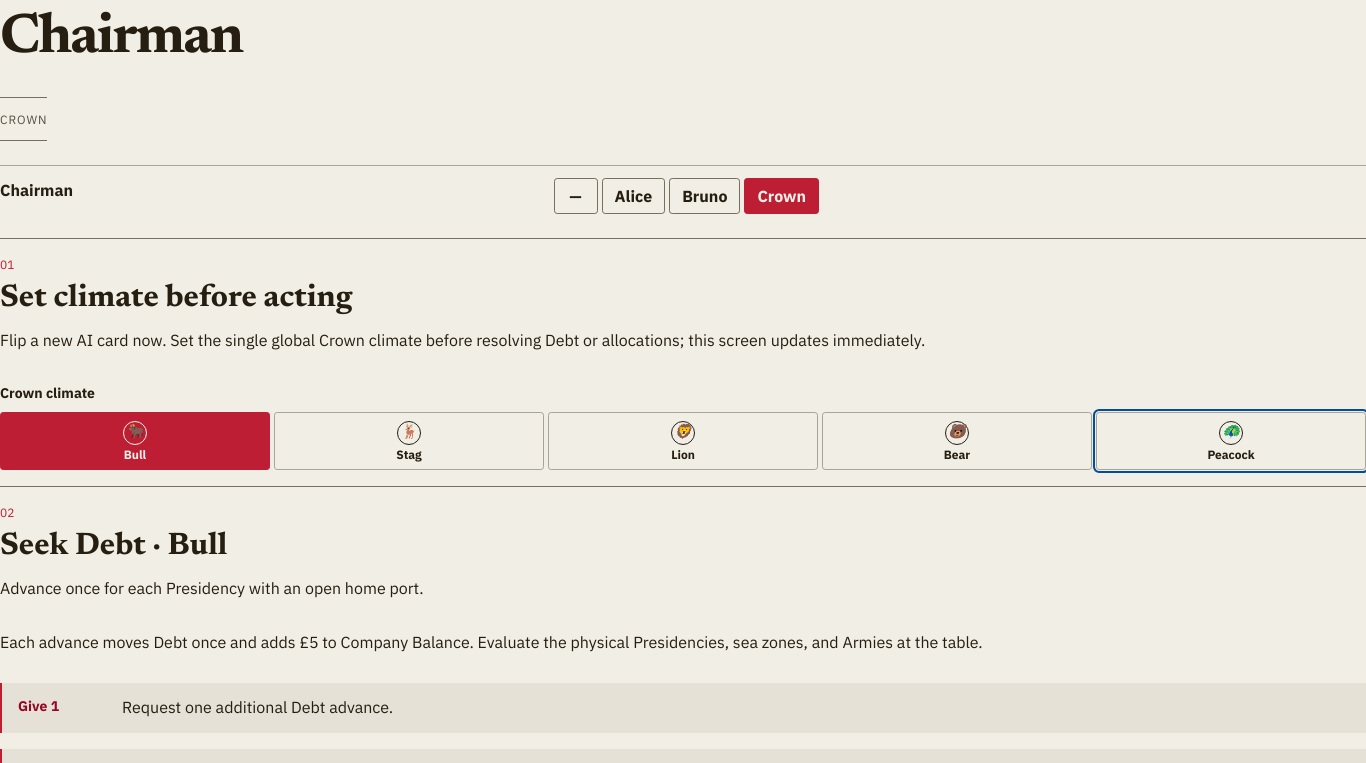
Test: Session 3 representative slices › switches the Chairman branch and active climate guidance immediately from the keyboard
Expected: the text "Advance once for each Presidency with an open home port." is shown, [0, 578, 424, 598]
Press Enter
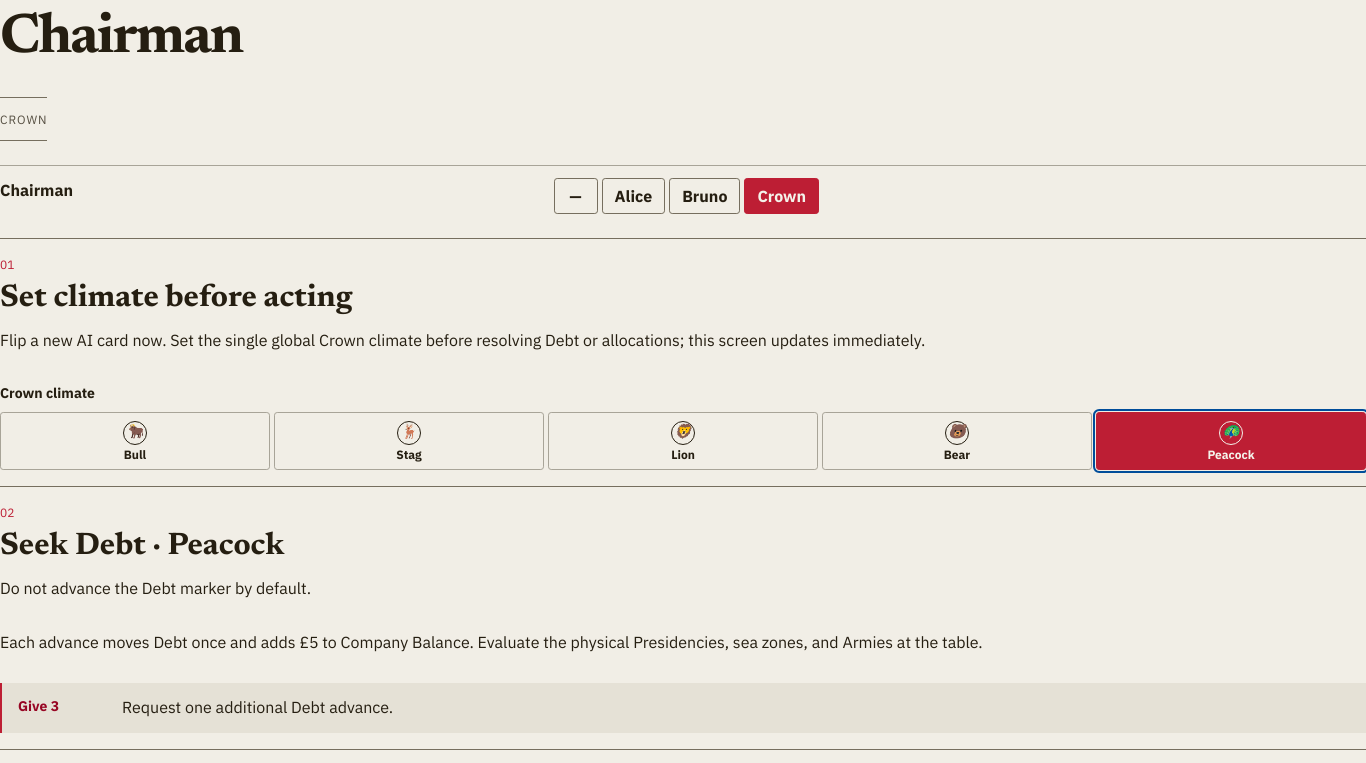
Expected: the text "Do not advance the Debt marker by default." is shown, [0, 578, 311, 598]
Click the button "Alice".
click(633, 196)  # box [602, 178, 665, 214]
(page scrolled)
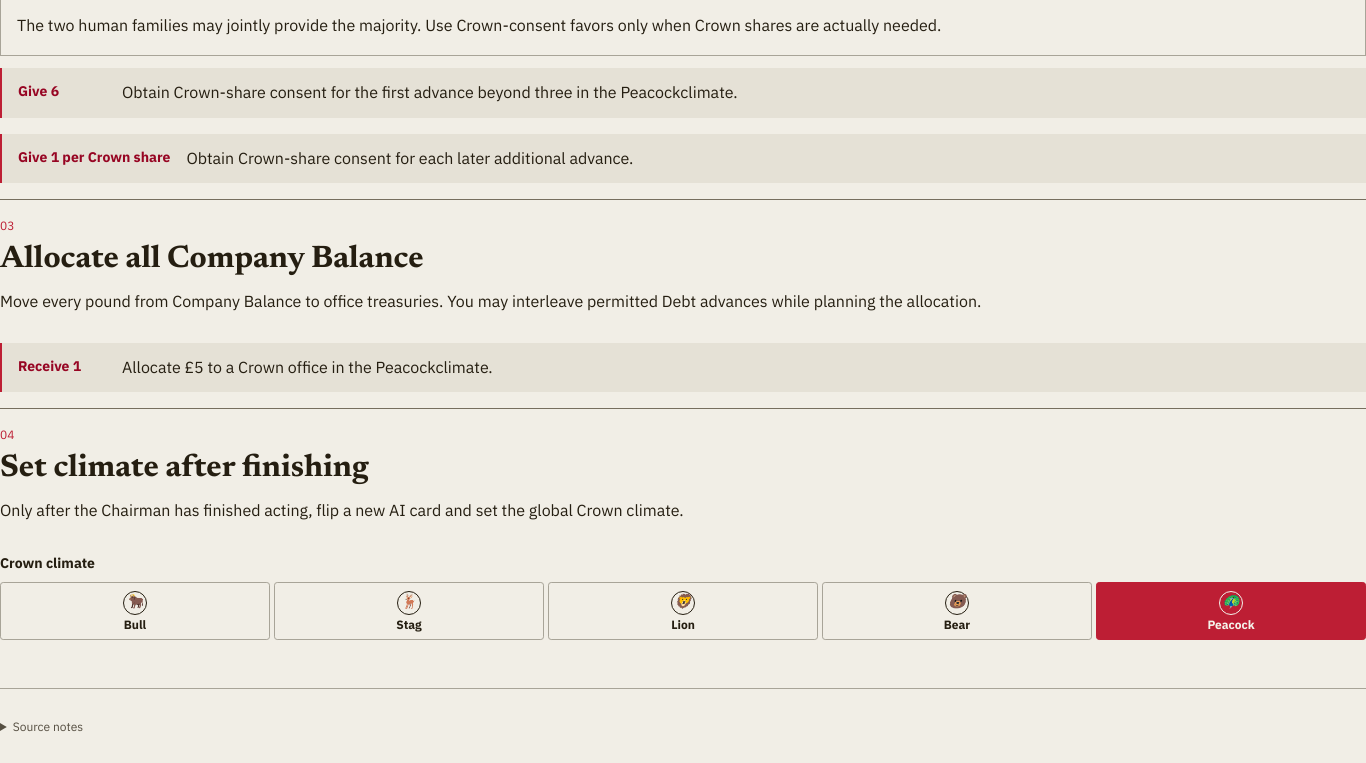
Expected: the heading "Set climate after finishing" is shown, [0, 453, 369, 484]
Expected: the text "Do not advance the Debt marker by default." is gone
